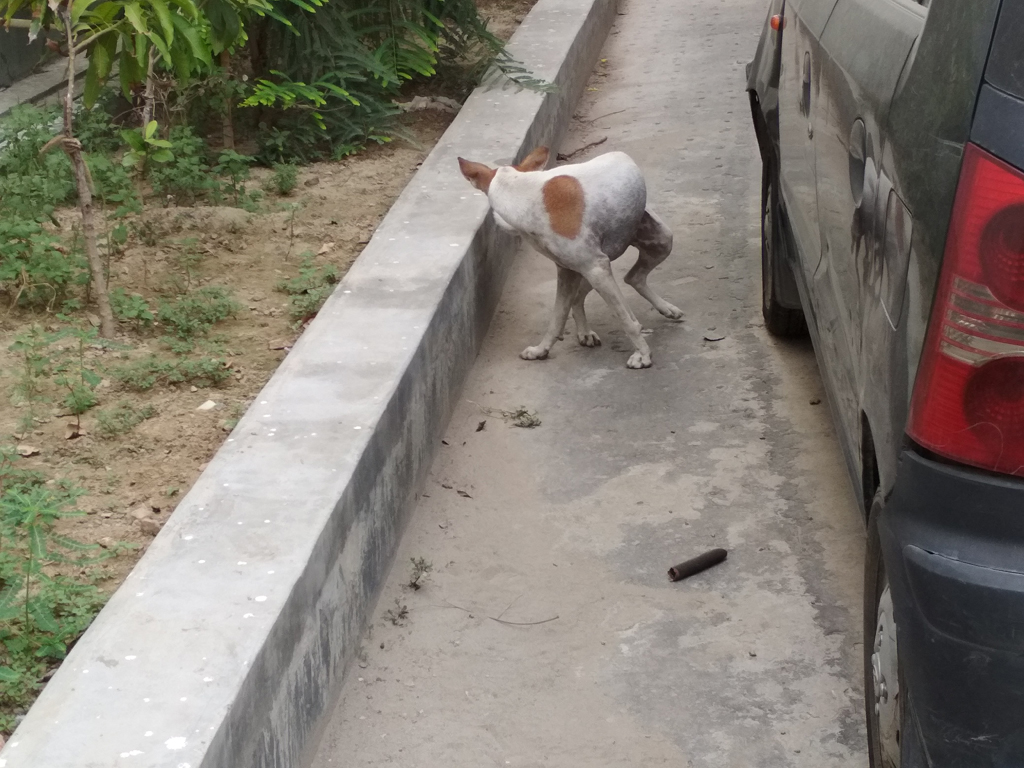dog: (460, 143, 674, 368)
